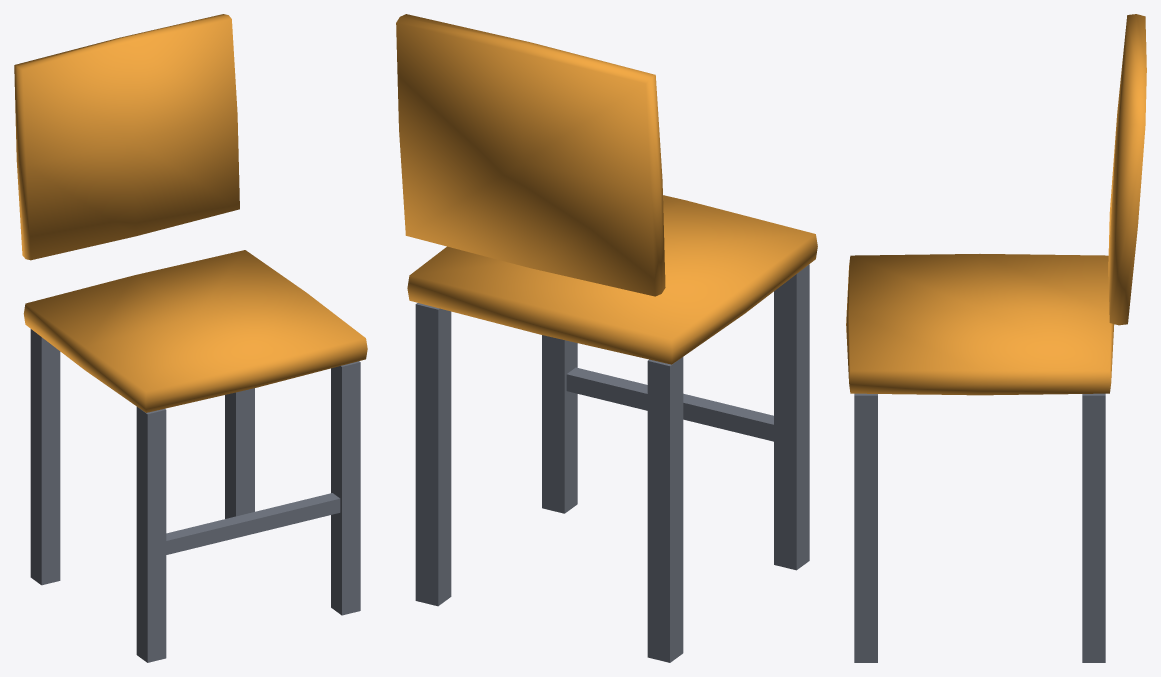
File: student_chair.glb
3 renders of one model, left to right at view 1: azimuth 30°, elevation 25°; view 2: azimuth 150°, elevation 25°; view 3: azimuth 270°, elevation 25°, orthographic. The views are drawn at different scales.
Visible parts, largest first — view 1: root; view 2: root; view 3: root.
Boxes of the visible parts, bbox=[...] form: root: bbox=[14, 14, 367, 662]; root: bbox=[396, 14, 817, 662]; root: bbox=[846, 14, 1146, 662].
Bounding box in the file's own units: 0.42 × 0.8895 × 0.4488.
